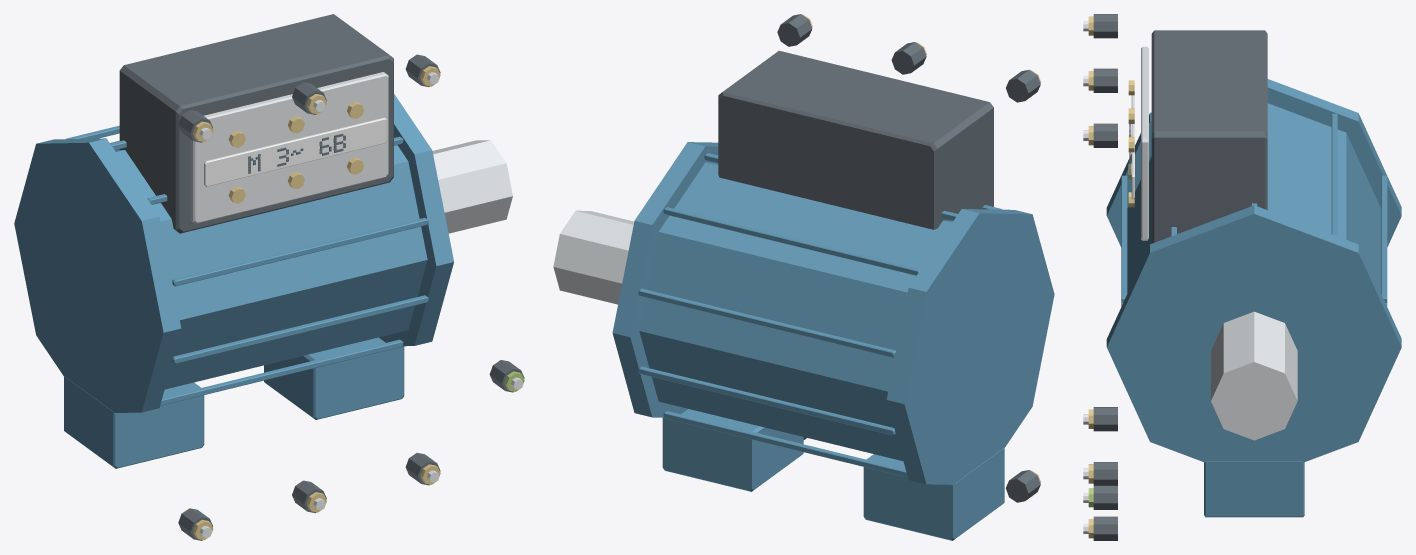
The model's file is motor6Terminal.glb.
3 renders of one model, left to right at view 1: azimuth 30°, elevation 25°; view 2: azimuth 150°, elevation 25°; view 3: azimuth 270°, elevation 25°, orthographic.
Parts seen in each view (by area): view 1: motor6Terminal-board; view 2: motor6Terminal-board; view 3: motor6Terminal-board.
Part boxes in pixels (bbox=[...]): motor6Terminal-board: bbox=[14, 14, 524, 540]; motor6Terminal-board: bbox=[553, 14, 1054, 540]; motor6Terminal-board: bbox=[1083, 14, 1401, 540].
Size of the model in its own units: 3.39 by 3.4 by 2.36.
